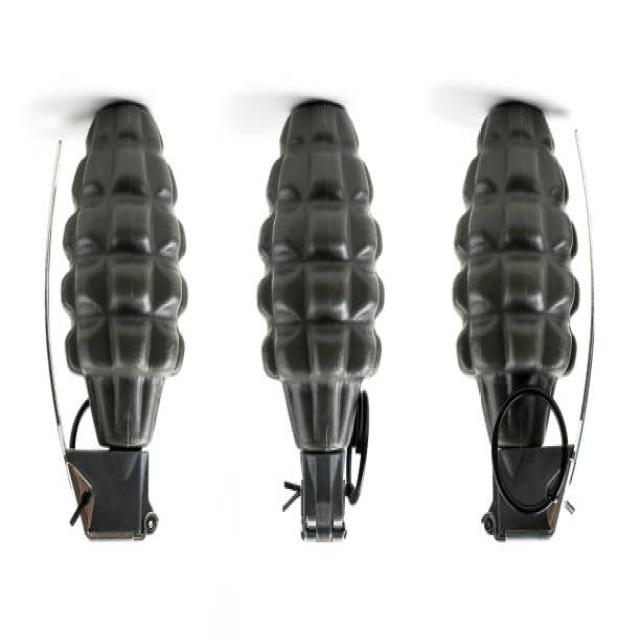grenade: (443, 95, 611, 557), (38, 96, 196, 560), (253, 91, 391, 558)
